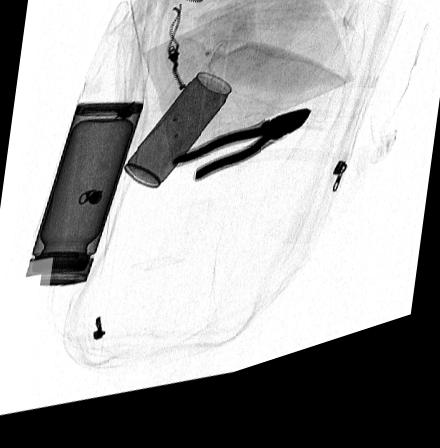Pliers: (170, 127, 312, 194)
